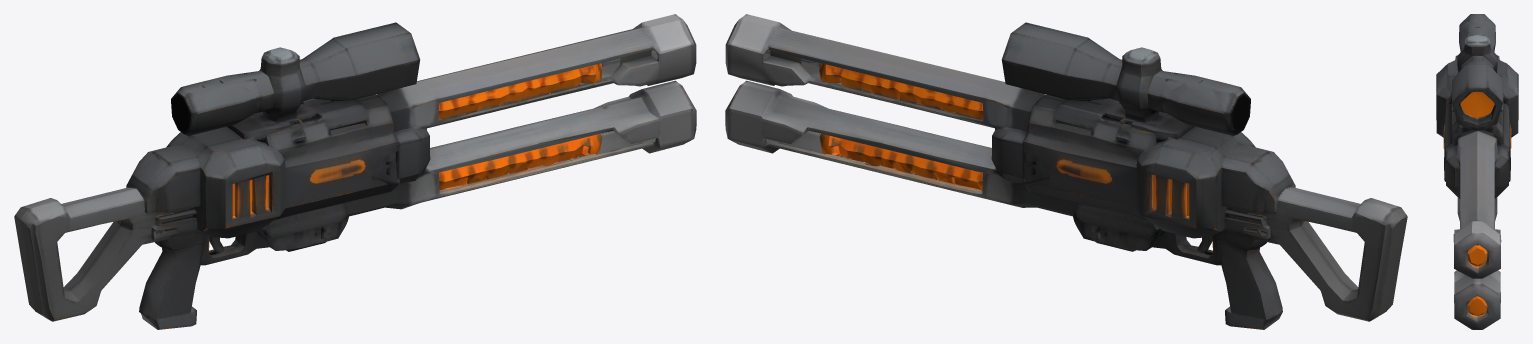
Rendered from railgun_sniper_low.glb.
3 views of the same model, side by side, from view 1: azimuth 30°, elevation 25°; view 2: azimuth 150°, elevation 25°; view 3: azimuth 270°, elevation 25° (orthographic). The views are drawn at different scales.
Visible parts, largest first — view 1: world; view 2: world; view 3: world.
Part boxes in pixels (box(x1,y1,x2,y2)): world: box(14, 14, 696, 329); world: box(725, 14, 1407, 329); world: box(1436, 14, 1518, 329).
Size of the model in its own units: 1 by 0.3541 by 0.1411.
Materials: 1 (1 with a texture image).
